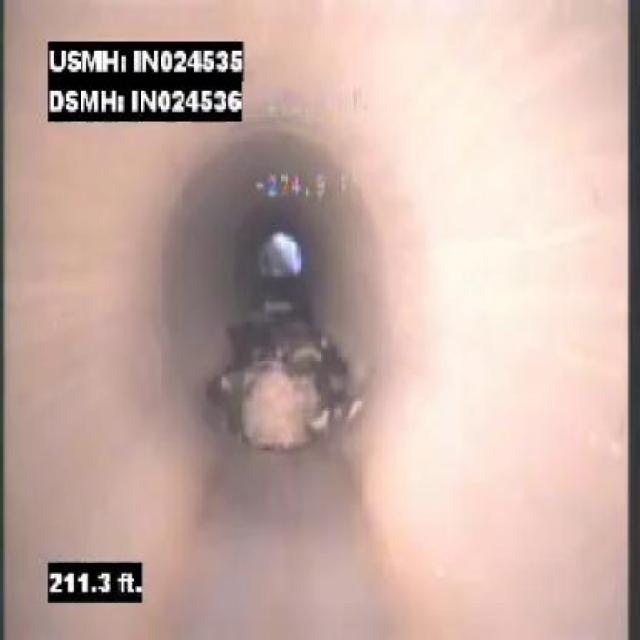Debris: (218, 330, 414, 484)
